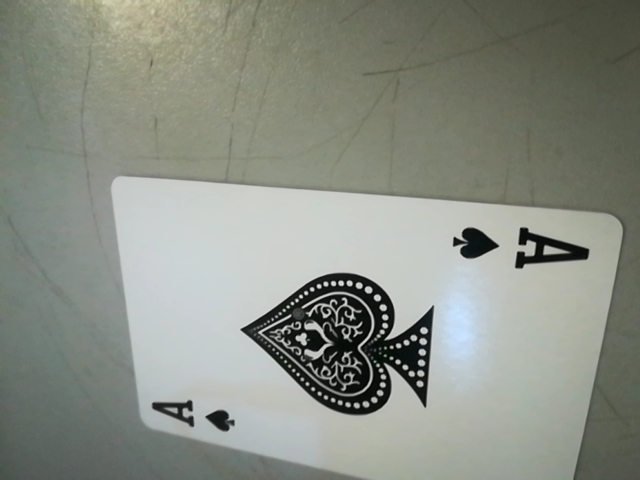ht a: (444, 217, 608, 273), (134, 390, 262, 447)
